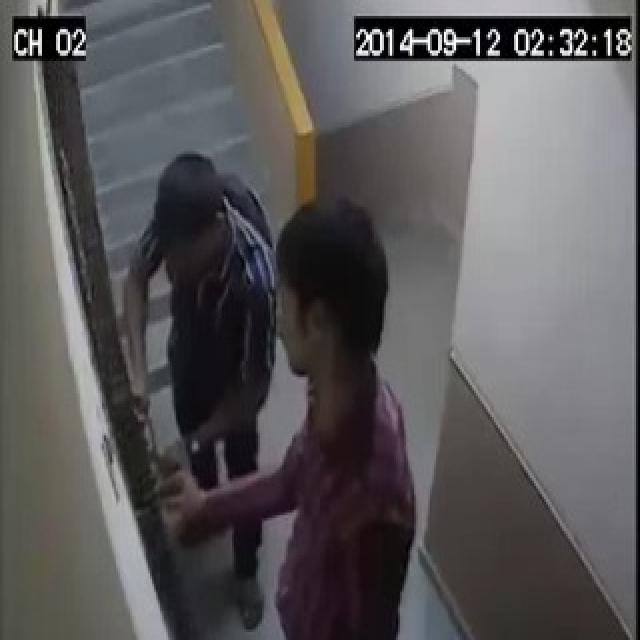burglary: (76, 299, 237, 540)
